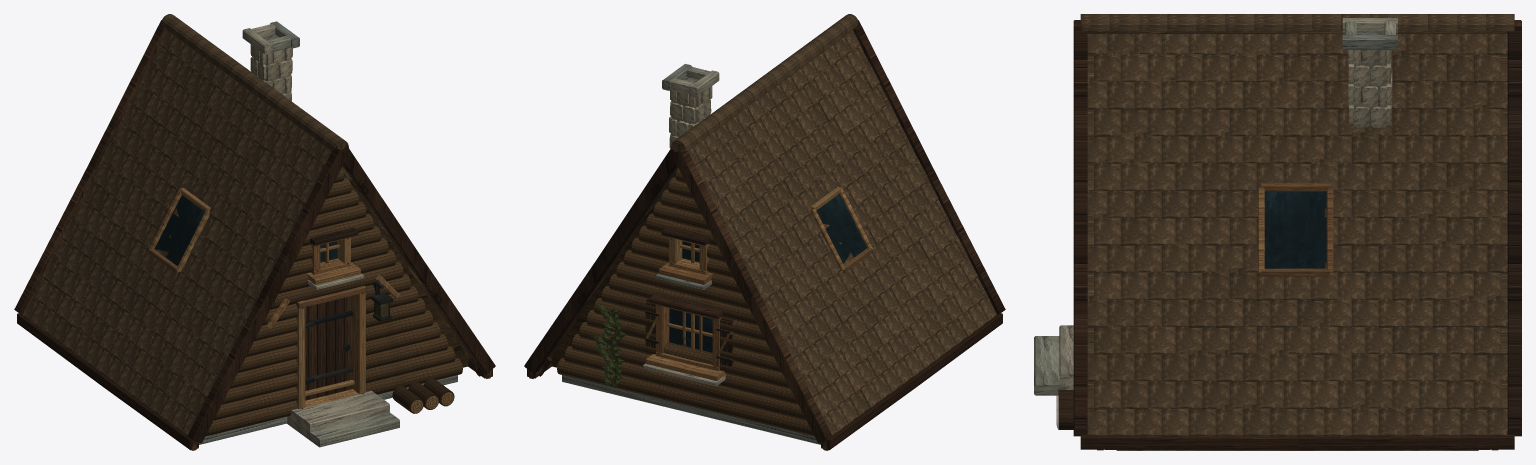
The model's file is 06_forester.glb.
3 views of the same model, side by side, from view 1: azimuth 30°, elevation 25°; view 2: azimuth 150°, elevation 25°; view 3: azimuth 270°, elevation 25° (orthographic). The views are drawn at different scales.
Visible parts, largest first — view 1: 06_forester; view 2: 06_forester; view 3: 06_forester.
Boxes of the visible parts, box(x1,y1,x2,y2) form: 06_forester: box(14, 14, 495, 450); 06_forester: box(524, 14, 1005, 450); 06_forester: box(1034, 14, 1521, 450).
Bounding box in the file's own units: 4.37 × 4.05 × 4.83.
7 materials, 7 textured.
